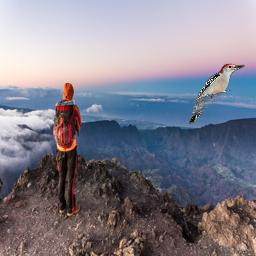Woodpecker: (189, 63, 245, 124)
